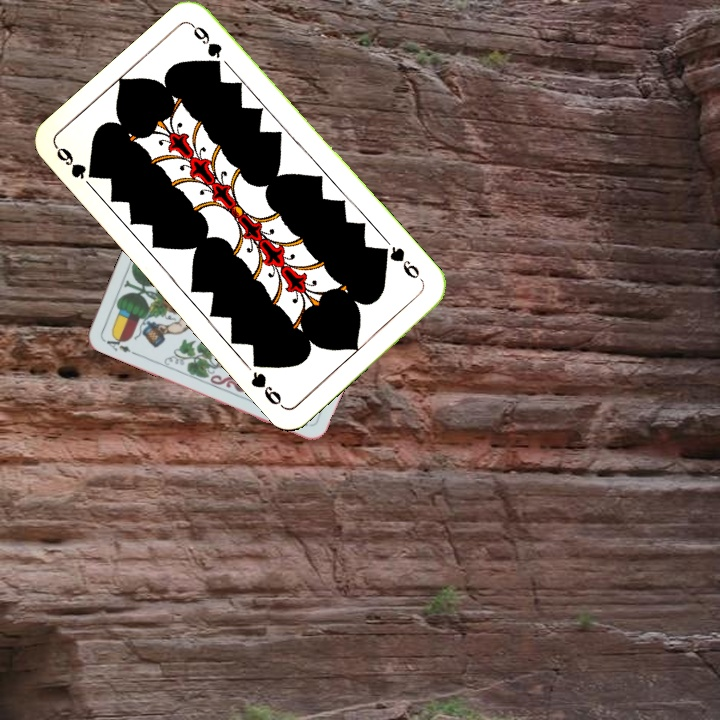EA: (99, 331, 137, 357)
G9: (376, 242, 427, 285), (52, 143, 99, 182)
